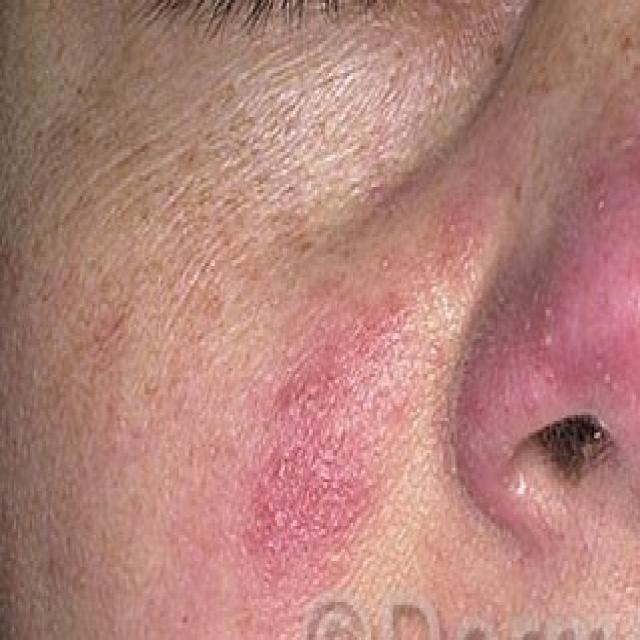Rosacea: (225, 200, 482, 618), (462, 162, 637, 521)
